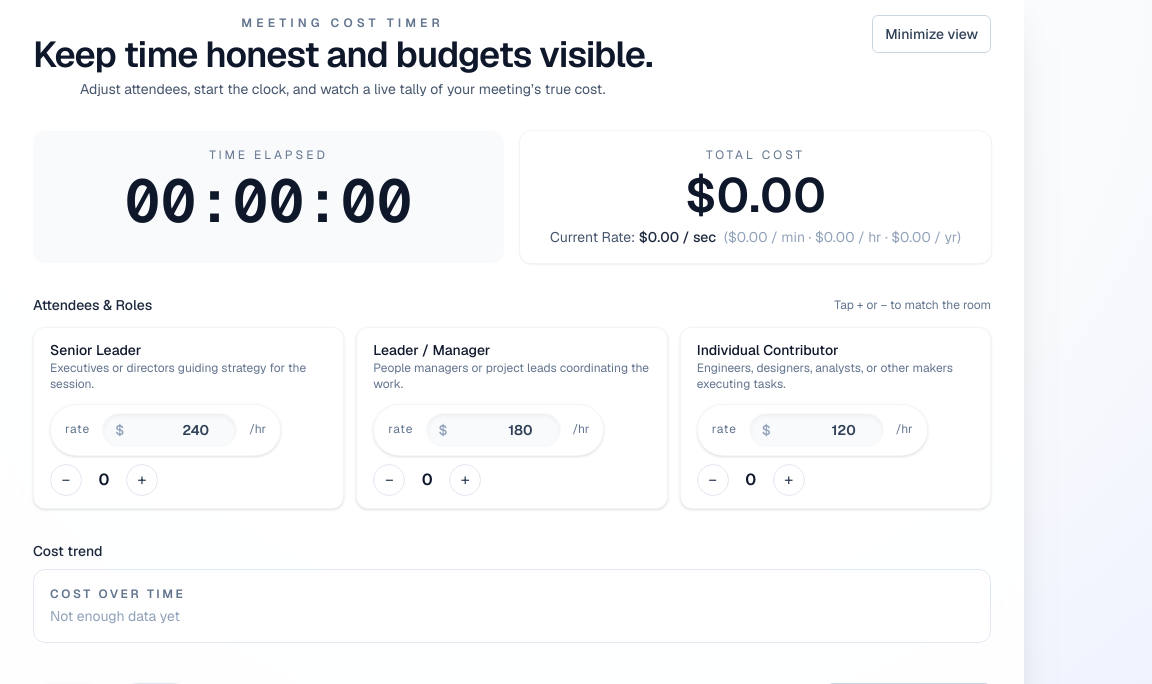
Scenario: MeetingTimerShell › keeps role counts after reset while clearing time and cost
The image size is (1152, 684).
Click the button named "add senior leader".
click(142, 480)  # box [126,464,158,496]
(page scrolled)
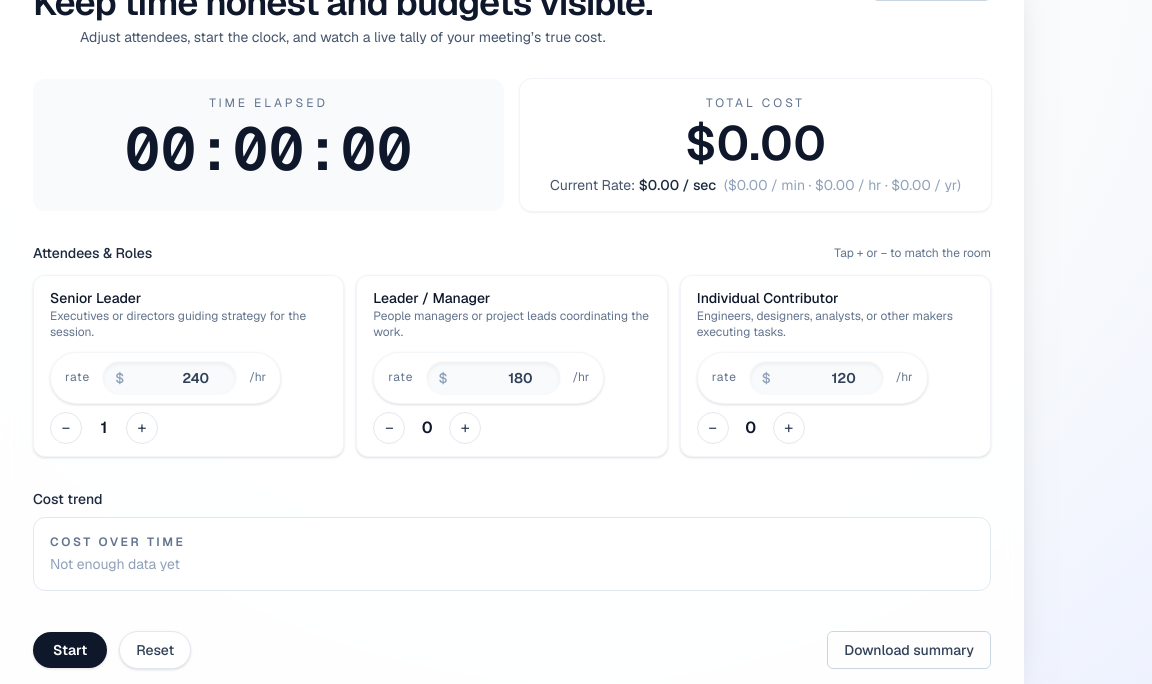
Result: the text "1" is shown at [101,417,107,438]
Click the button "Start".
click(70, 650)  # box [33,632,107,668]
Wait 3000 ms
(page scrolled)
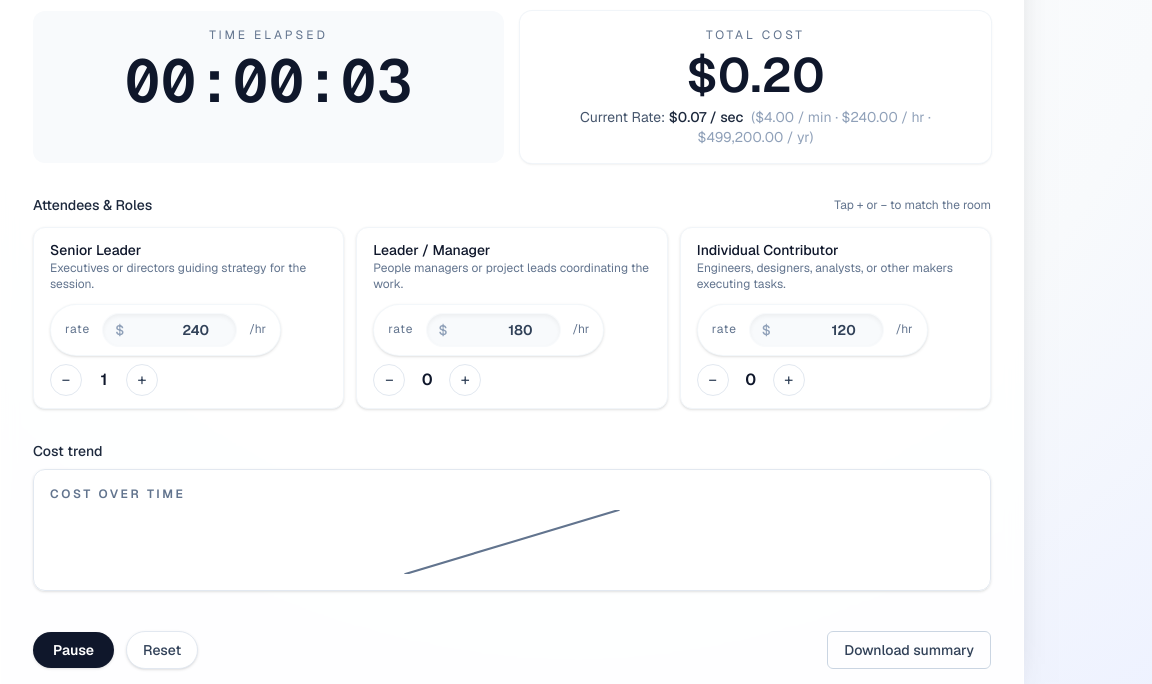
Result: the text "$0.00" is gone
Click the button "Reset".
click(162, 650)  # box [126,631,198,669]
(page scrolled)
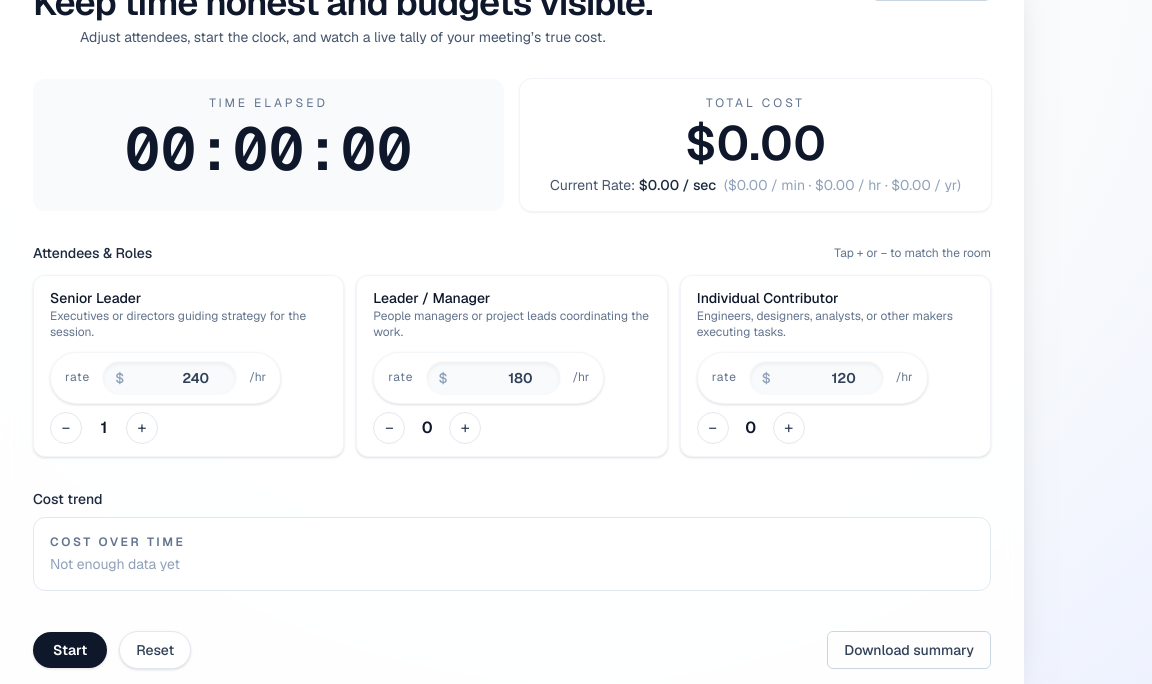
Result: the text "1" is shown at [101,417,107,438]
Result: the text "00:00:00" is shown at [124,110,412,188]
Result: the text "$0.00" is shown at [685,112,826,174]
